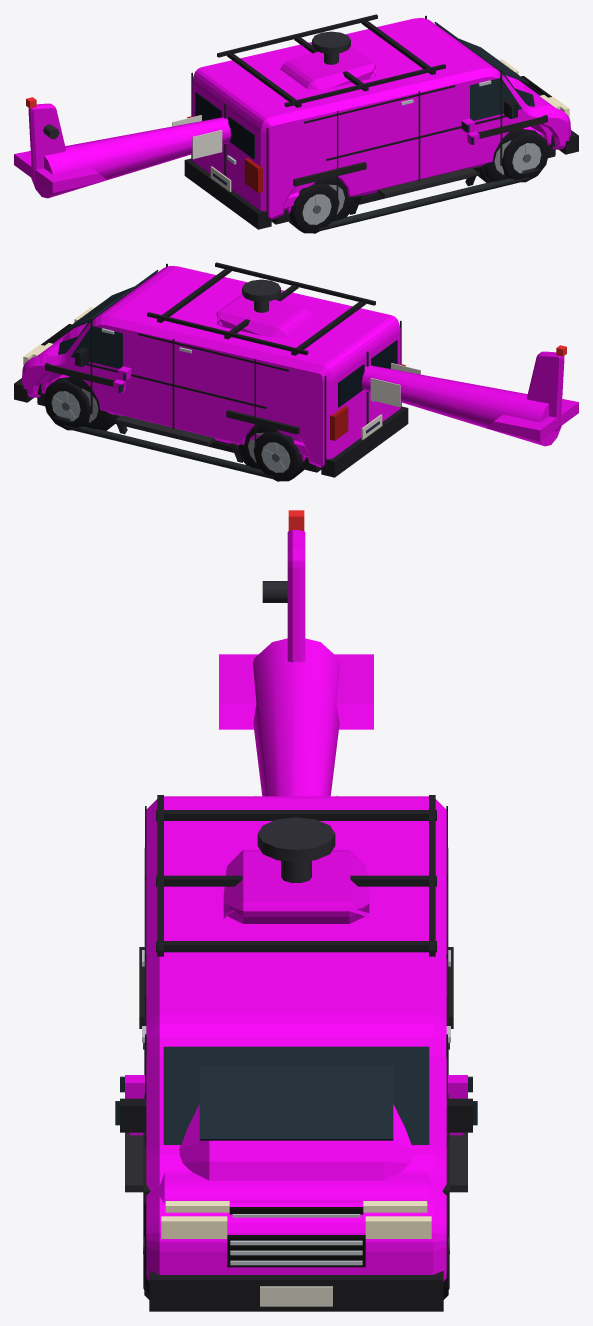
Rendered from models.glb.
3 views of the same model, one above another, from view 1: azimuth 30°, elevation 25°; view 2: azimuth 150°, elevation 25°; view 3: azimuth 270°, elevation 25° (orthographic). The views are drawn at different scales.
Visible parts, largest first — view 1: van, heli, pickup, sedan, van.lights; view 2: van, heli, pickup, sedan, van.lights; view 3: van, heli, pickup, van.lights, pickup.lights.
Part boxes in pixels (x1,y1,x2,y2): van: (184, 14, 578, 233); heli: (14, 31, 539, 231); pickup: (284, 80, 555, 221); sedan: (275, 126, 555, 222); van.lights: (187, 59, 569, 192); van: (14, 262, 408, 481); heli: (53, 279, 578, 479); pickup: (37, 328, 308, 469); sedan: (37, 374, 317, 470); van.lights: (23, 307, 405, 440); van: (115, 795, 477, 1311); heli: (143, 530, 449, 1289); pickup: (120, 947, 472, 1217); van.lights: (161, 1216, 431, 1238); pickup.lights: (165, 1201, 427, 1212).
Bounding box in the file's own units: 12.28 × 4.14 × 3.74.
